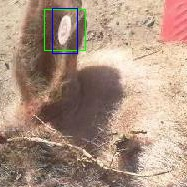text: (44, 9, 85, 50)
